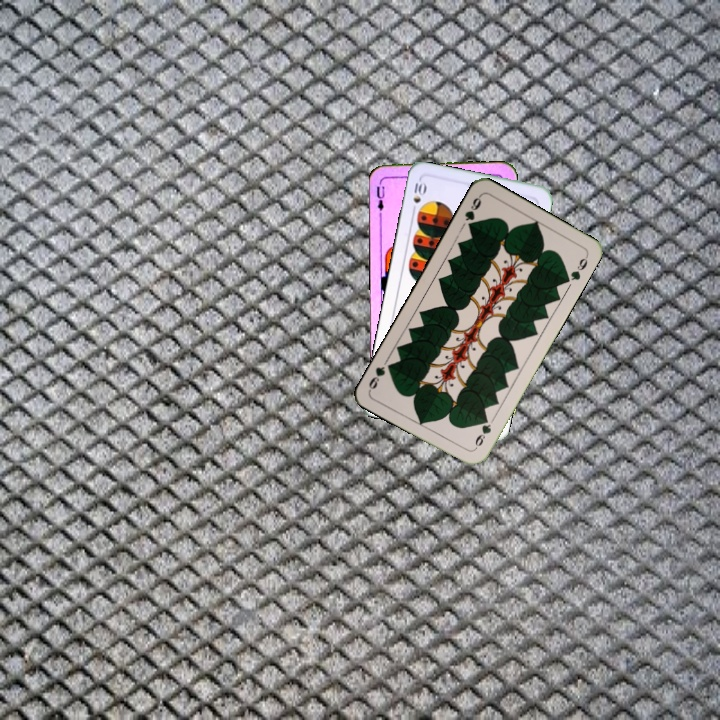EU: (373, 177, 387, 217)
G9: (461, 191, 484, 232), (471, 414, 494, 452)
S10: (408, 176, 429, 216)
